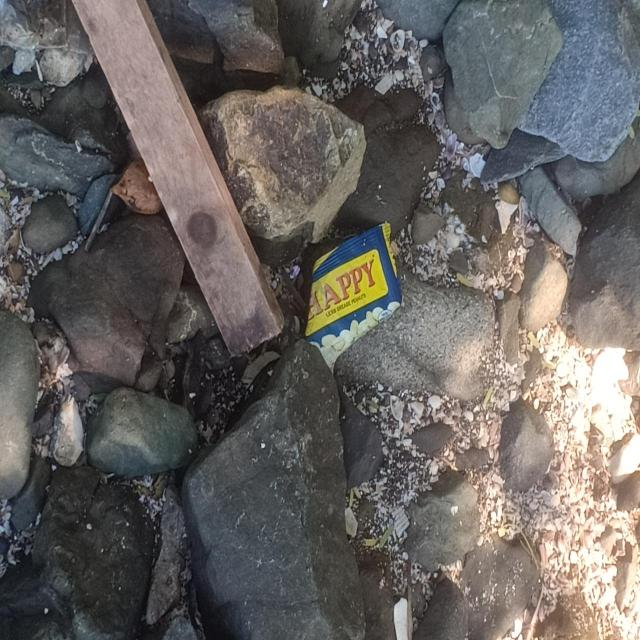plastic_waste: (305, 221, 407, 377)
wood_waste: (72, 1, 287, 361)
